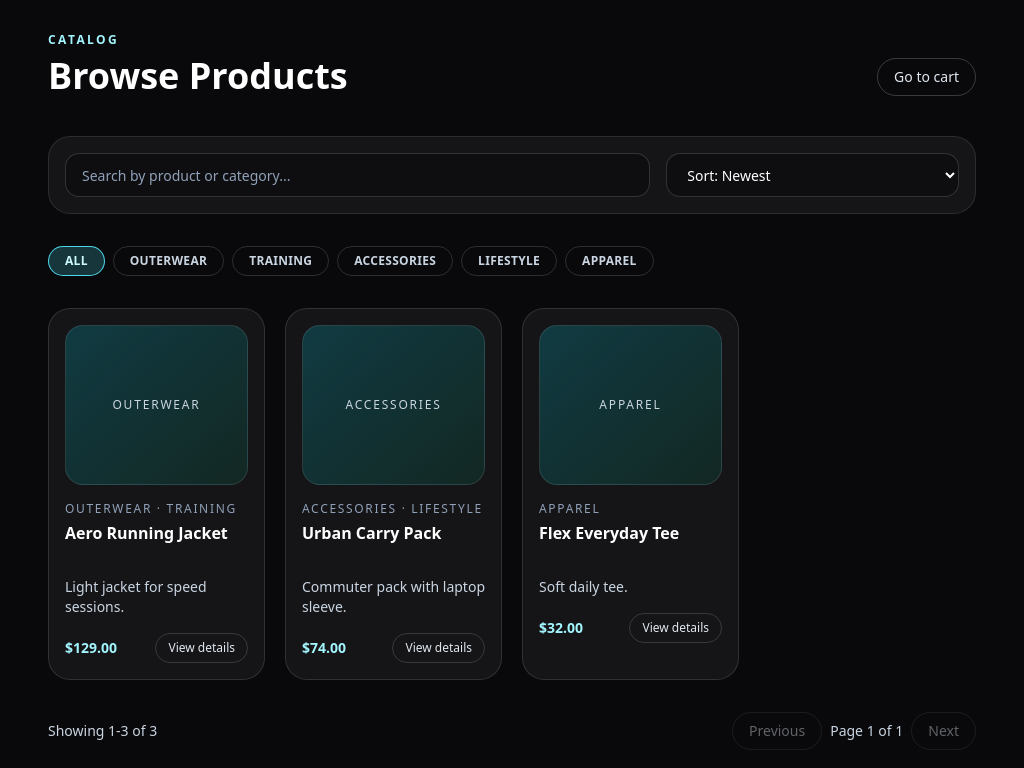
Scenario: CatalogClient › filters by selected category chip
Expected: the link "Urban Carry Pack" is shown, [302,522,441,544]
What coordinates should you click on to do the following:
click the button "Accessories"
I would click on:
 (395, 261)
Its box is [337,246,453,276].
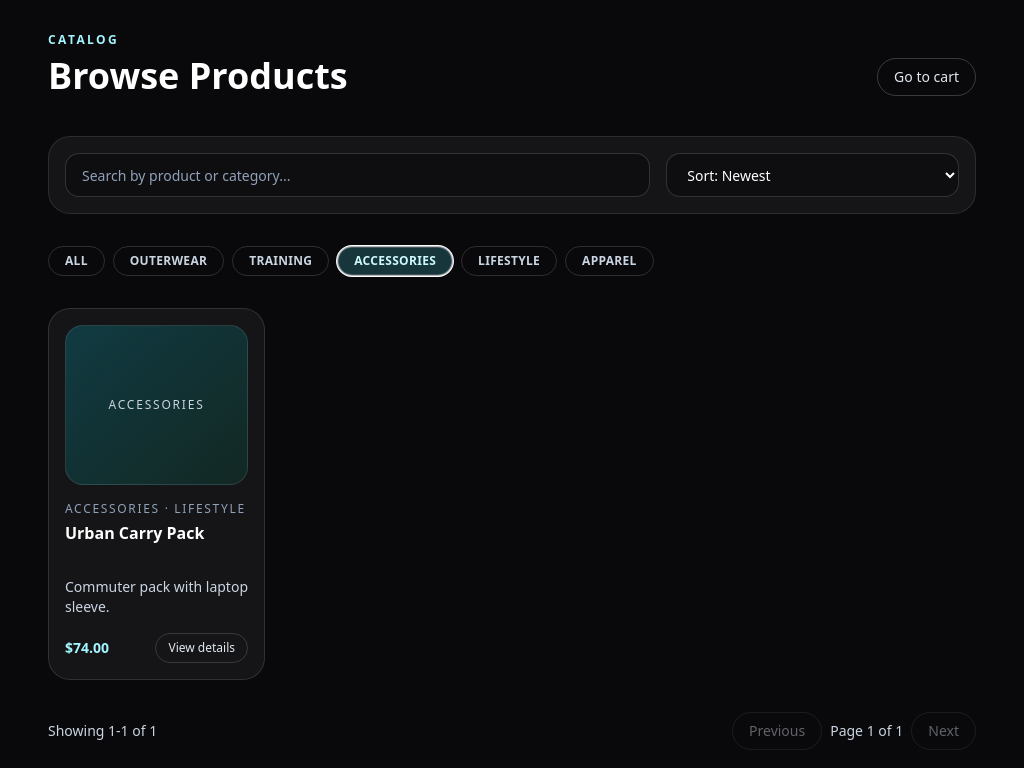
Expected: the link "Urban Carry Pack" is shown, [65,522,204,544]
Expected: the link "Aero Running Jacket" is gone
